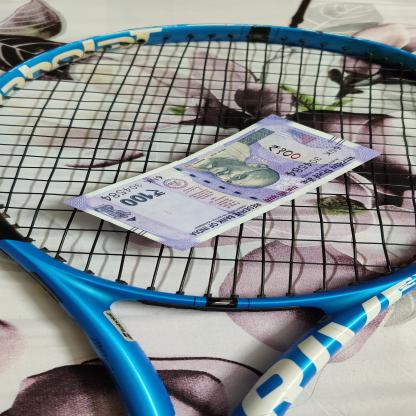New100Front: (61, 112, 385, 252)
